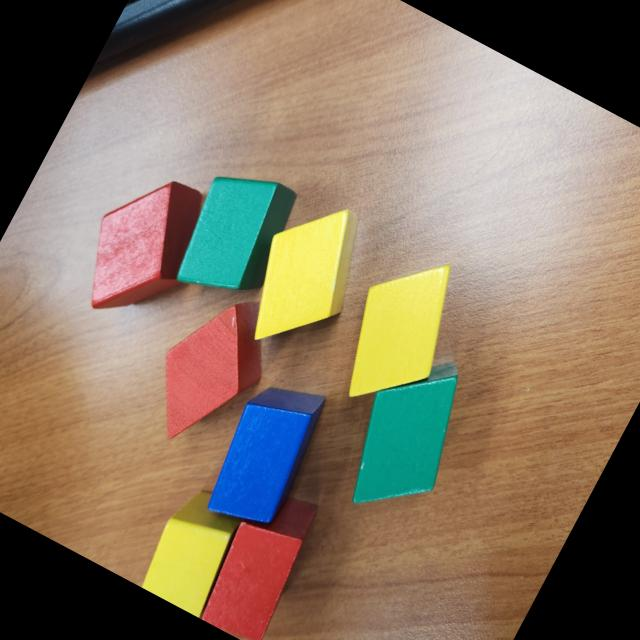blue: (192, 364, 338, 540)
green: (324, 337, 492, 535), (163, 154, 308, 316)
red: (130, 274, 291, 464), (60, 155, 223, 341), (190, 477, 329, 640)
yellow: (320, 236, 480, 425), (225, 186, 384, 370), (133, 478, 255, 618)
